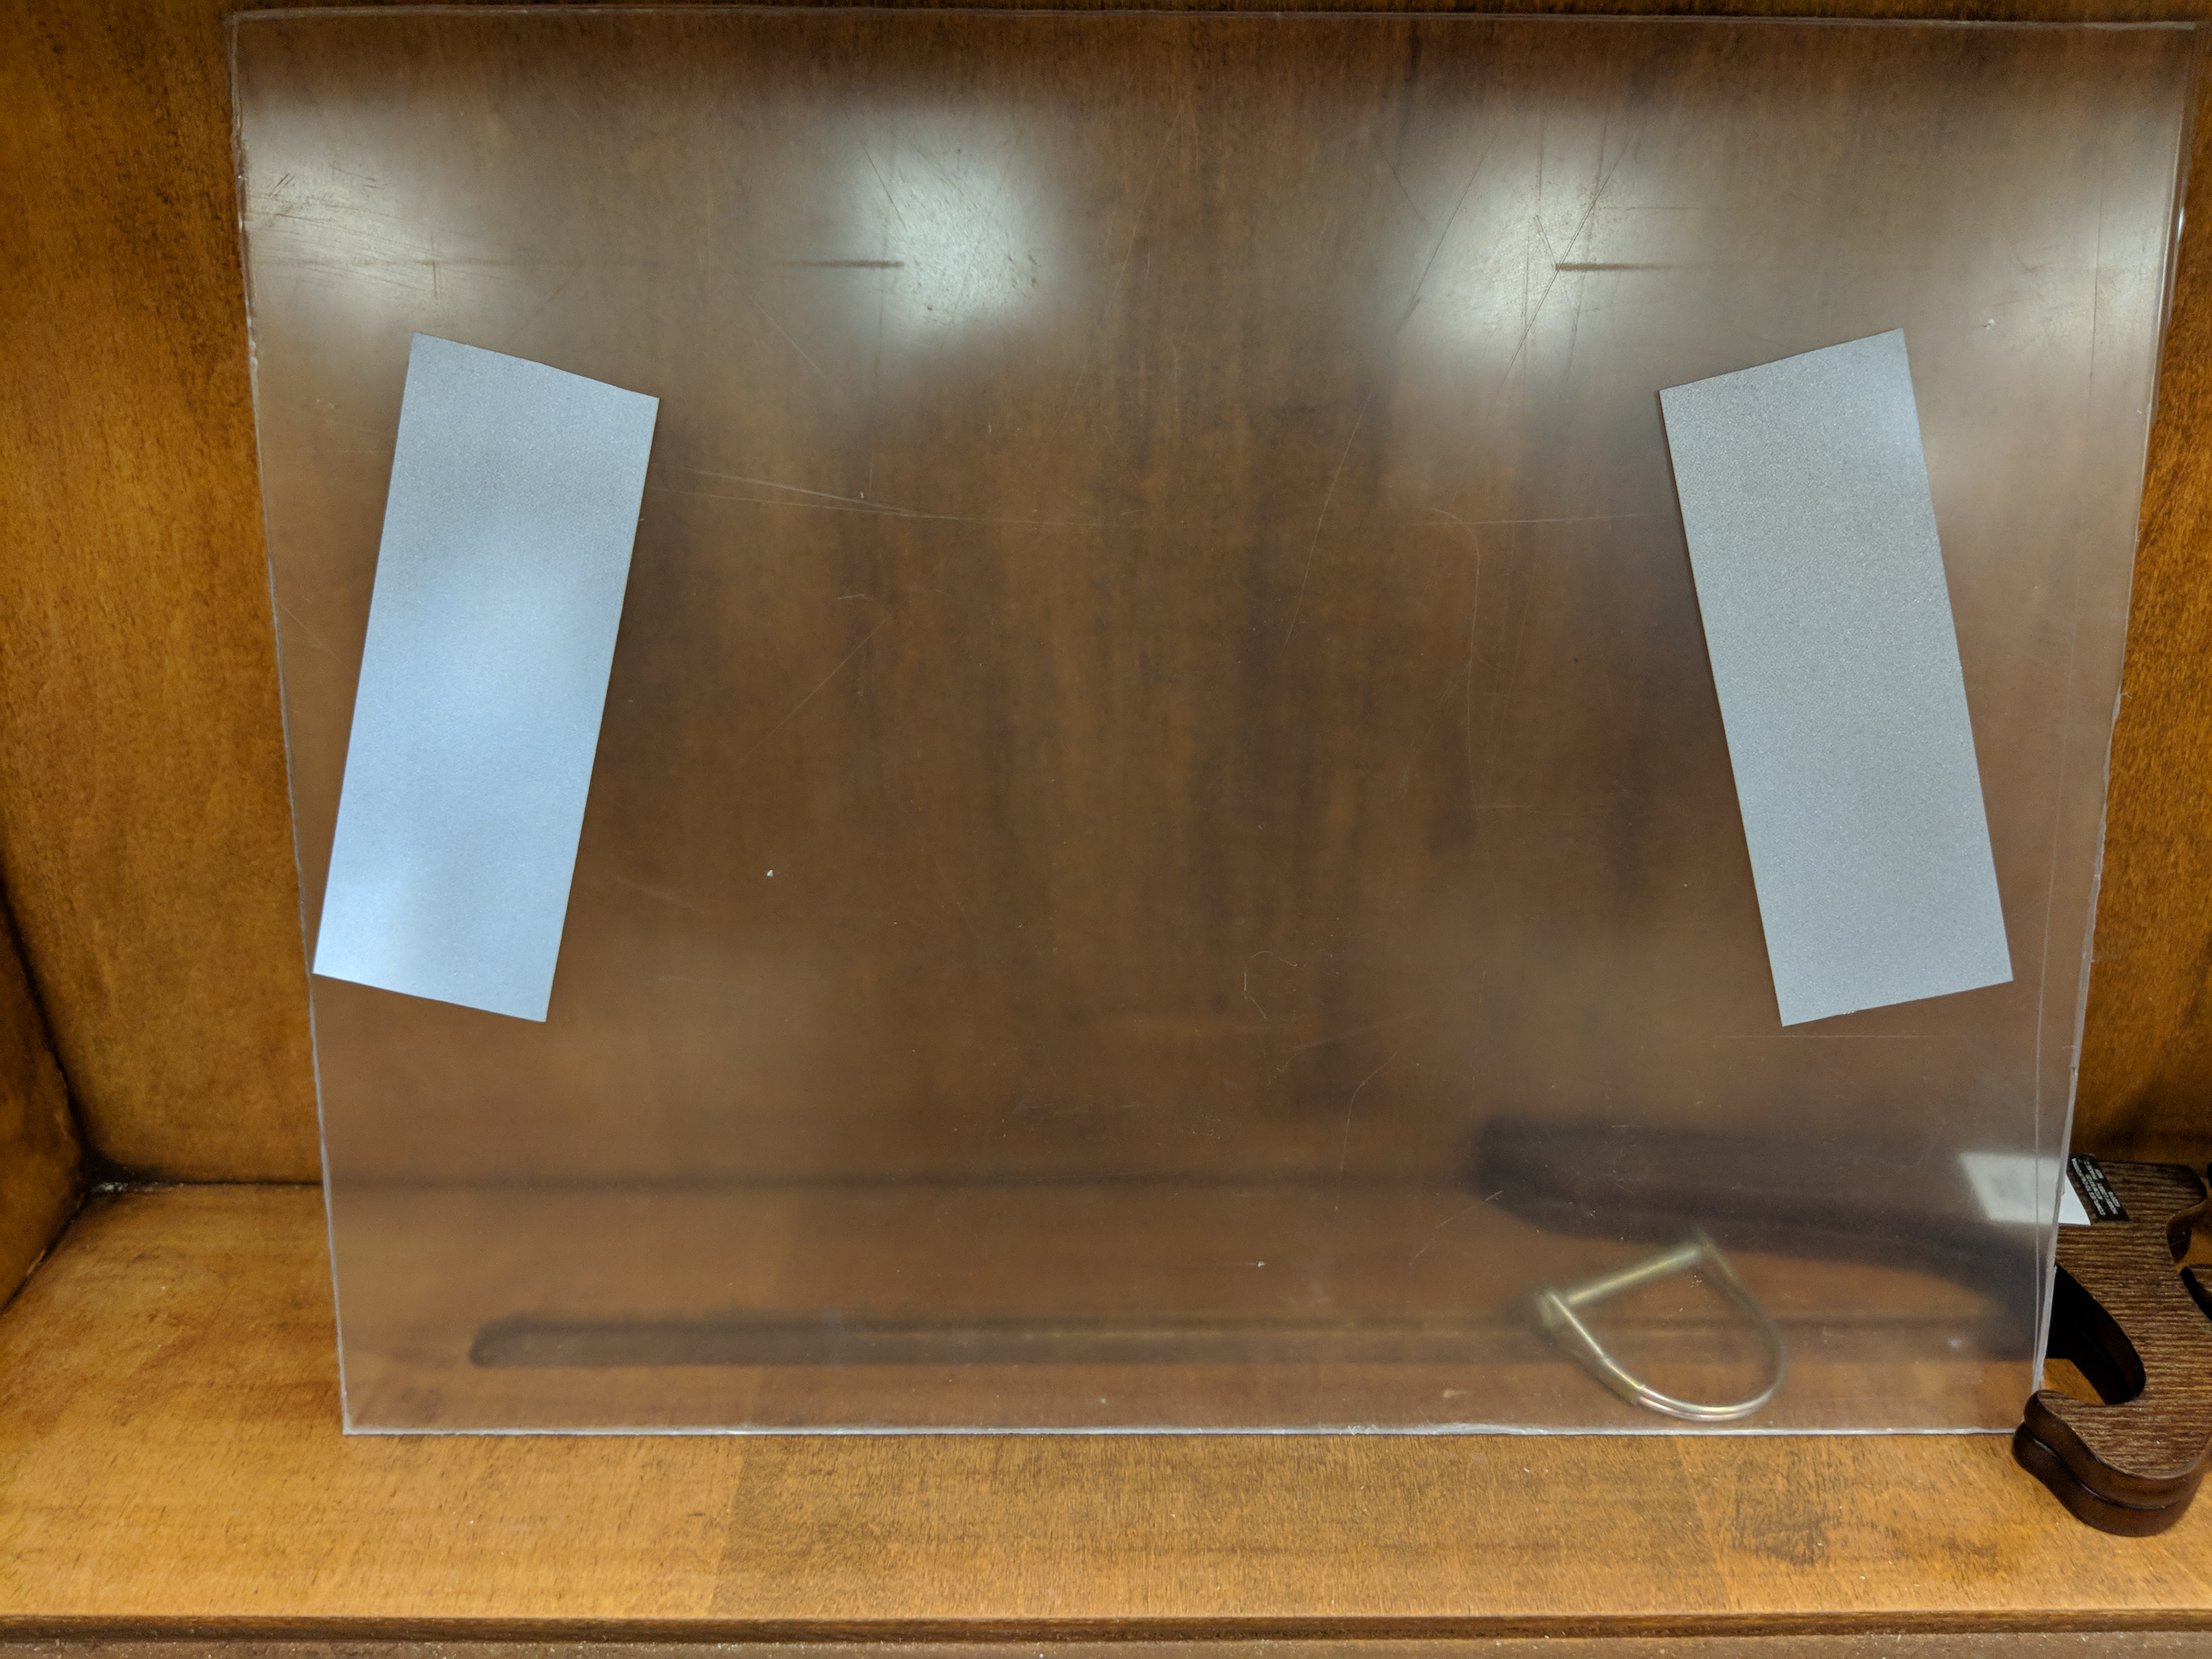vision_target: (296, 317, 2031, 1049)
